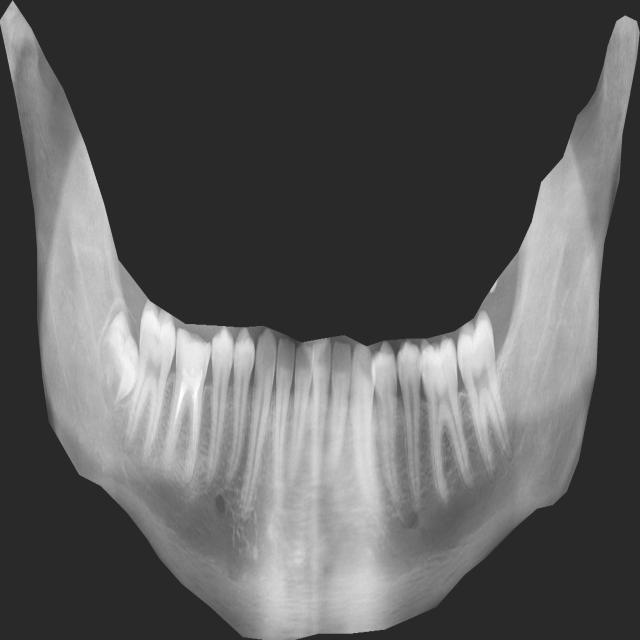mandibula: (0, 0, 640, 640)
